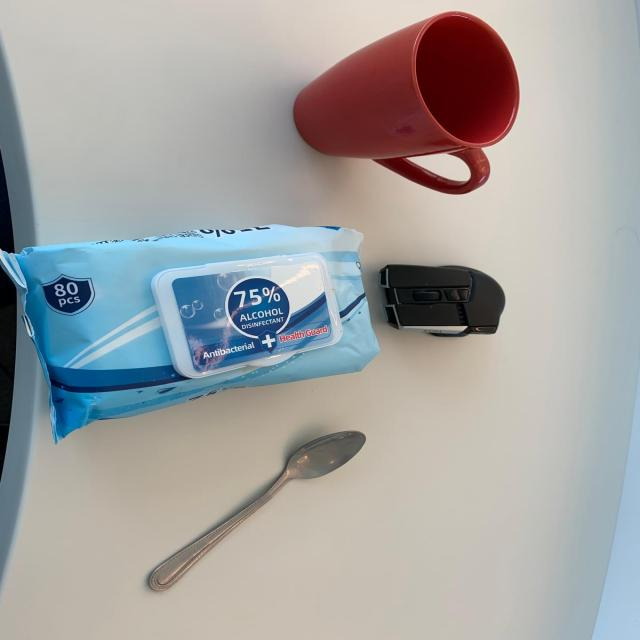Cup: (252, 8, 560, 205)
Mouse: (370, 258, 537, 349)
Spoon: (130, 428, 402, 602)
